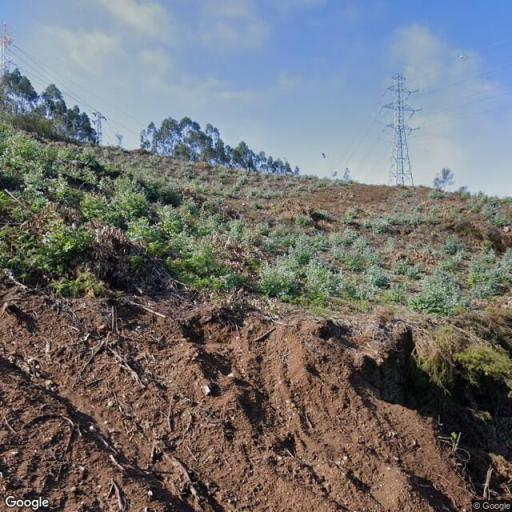ss_3: (380, 71, 422, 190)
ss_4: (90, 107, 108, 147)
